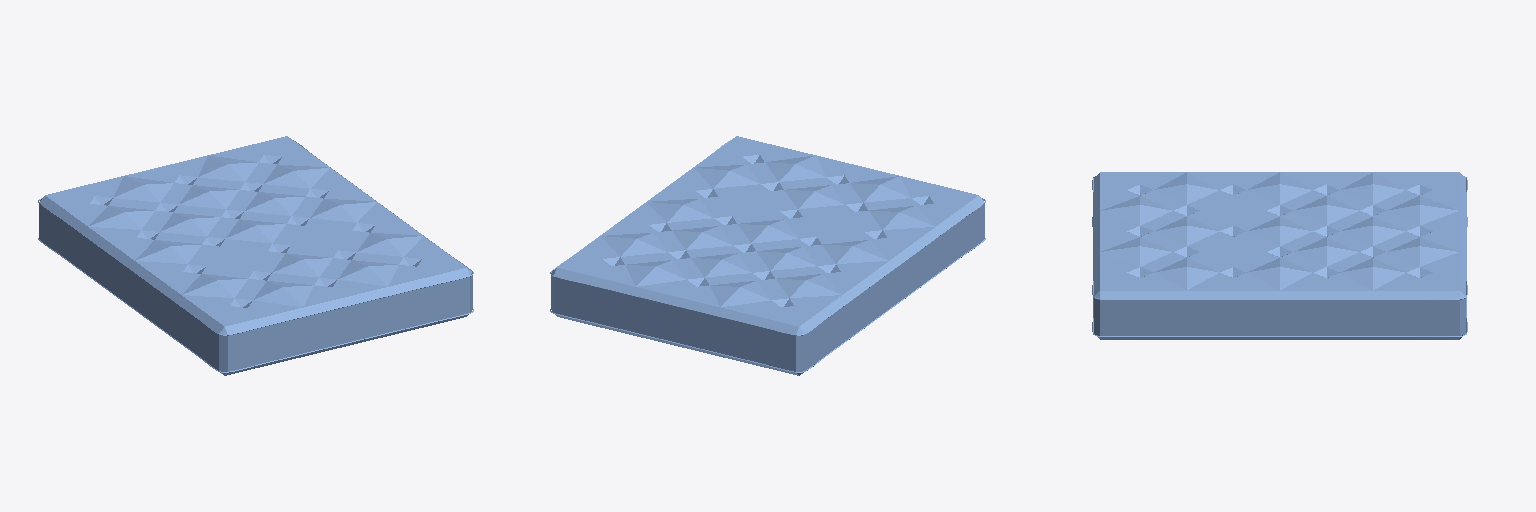
File: mattress.obj
The picture shows the model from 3 angles: view 1: azimuth 30°, elevation 25°; view 2: azimuth 150°, elevation 25°; view 3: azimuth 270°, elevation 25°; orthographic projection.
Visible parts, largest first — view 1: mattress001; view 2: mattress001; view 3: mattress001.
Part boxes in pixels (bbox=[...]): mattress001: bbox=[38, 136, 473, 375]; mattress001: bbox=[550, 136, 985, 375]; mattress001: bbox=[1092, 172, 1467, 339].
Size of the model in its own units: 161 by 36.55 by 204.